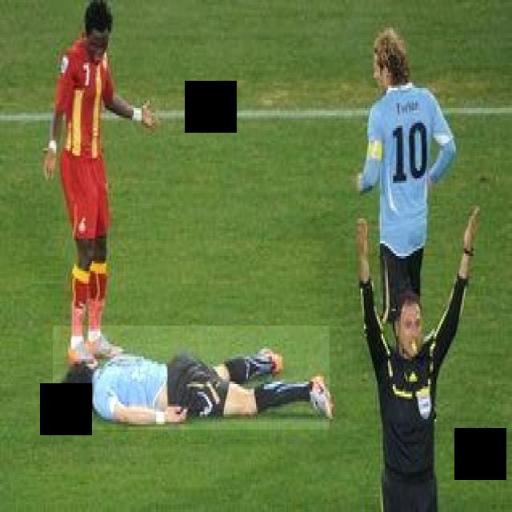Fall: (54, 326, 331, 432)
